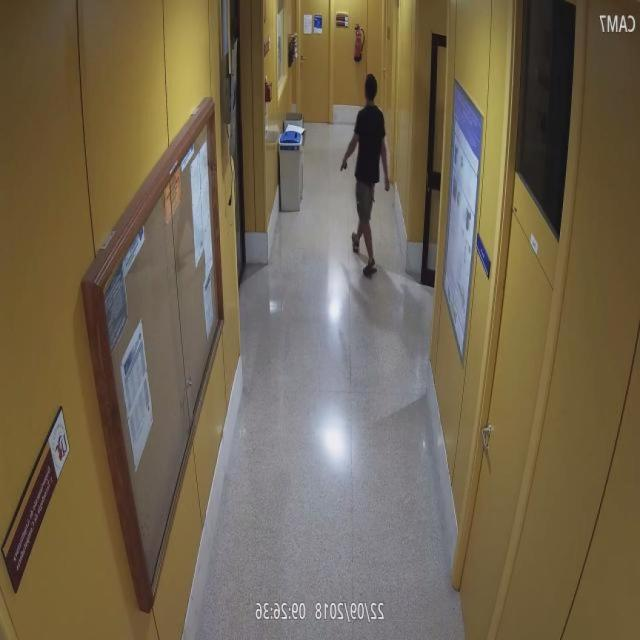pistol: (339, 154, 348, 174)
